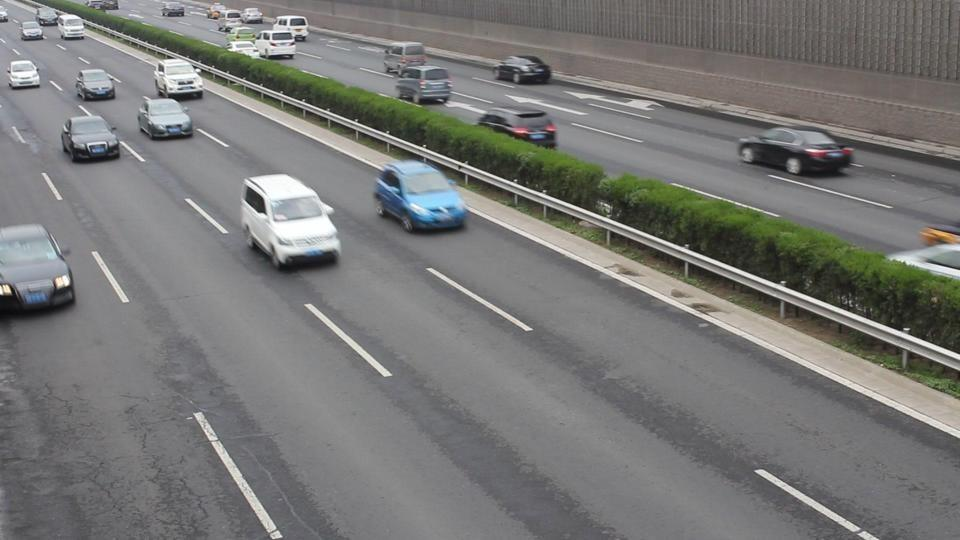car: (239, 174, 342, 270), (372, 158, 468, 234), (0, 223, 75, 312), (736, 127, 855, 176), (475, 107, 558, 150), (59, 114, 121, 163), (136, 96, 194, 139), (394, 64, 453, 105), (154, 59, 204, 102), (493, 54, 553, 85), (382, 41, 427, 77), (74, 69, 117, 101), (8, 59, 42, 90)
